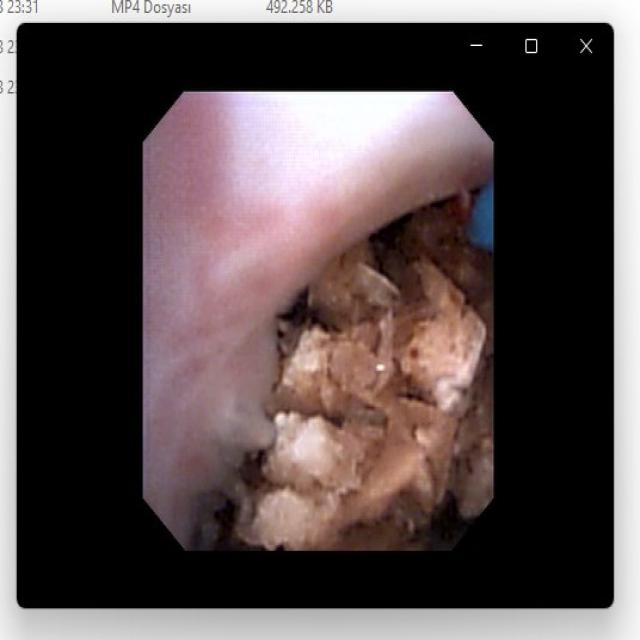stone: (242, 213, 487, 546)
tissue: (152, 97, 486, 527)
